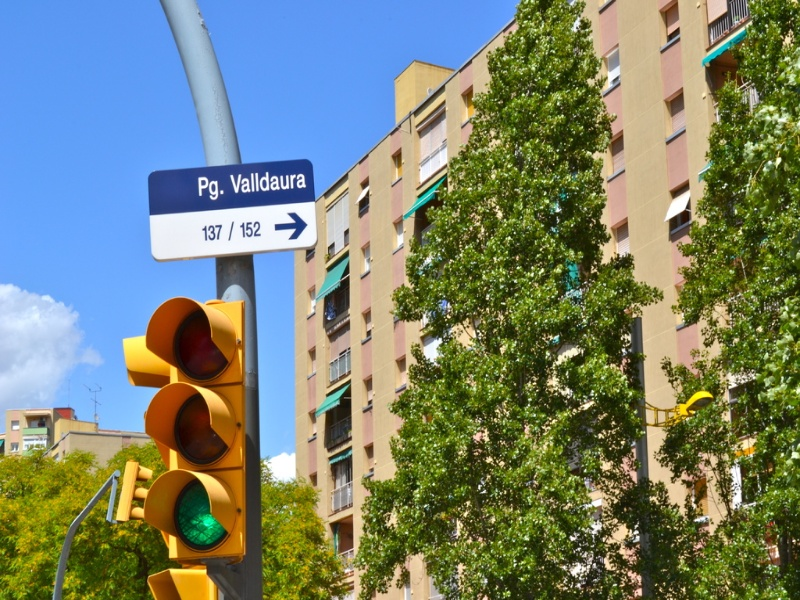green_light: (131, 463, 310, 580)
